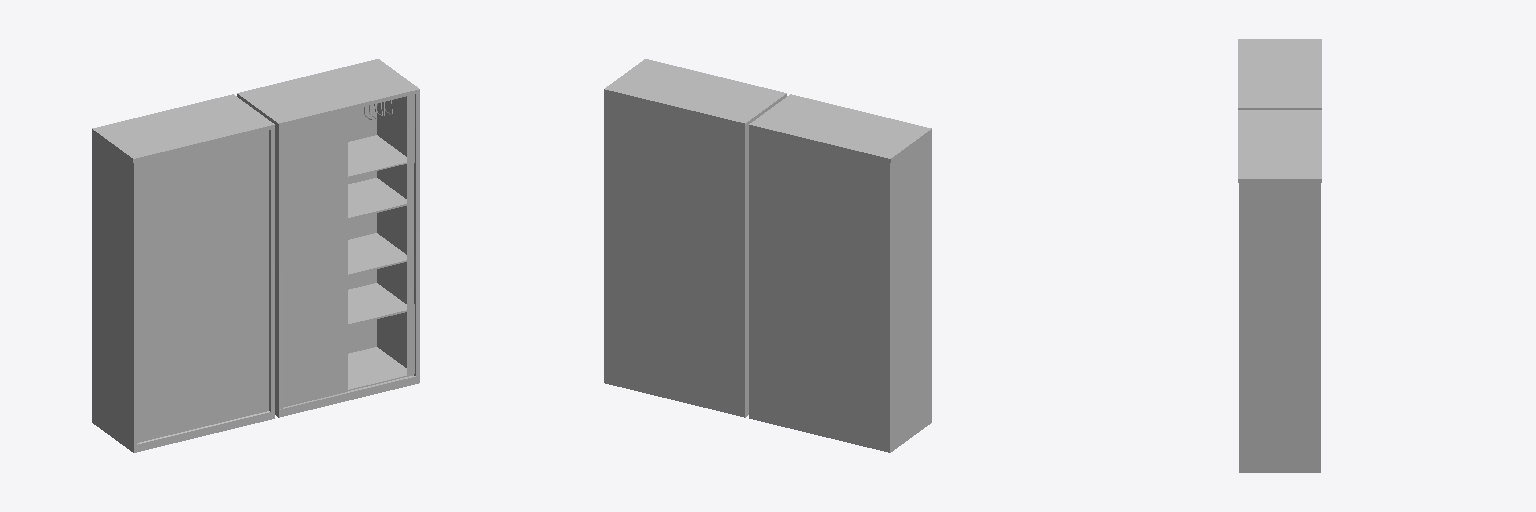
The model's file is S_ClstOfcA_0_001.obj.
The picture shows the model from 3 angles: view 1: azimuth 30°, elevation 25°; view 2: azimuth 150°, elevation 25°; view 3: azimuth 270°, elevation 25°; orthographic projection.
Visible parts, largest first — view 1: S_ClstOfcACounter002, S_ClstOfcACounter, S_ClstOfcADoor; view 2: S_ClstOfcACounter002, S_ClstOfcACounter; view 3: S_ClstOfcACounter, S_ClstOfcACounter002.
Part boxes in pixels (left/top/right/bottom): S_ClstOfcACounter002: left=92, top=94, right=274, bottom=452; S_ClstOfcACounter: left=237, top=59, right=419, bottom=417; S_ClstOfcADoor: left=283, top=111, right=347, bottom=407; S_ClstOfcACounter002: left=749, top=94, right=931, bottom=452; S_ClstOfcACounter: left=604, top=59, right=786, bottom=417; S_ClstOfcACounter: left=1238, top=110, right=1321, bottom=472; S_ClstOfcACounter002: left=1238, top=39, right=1321, bottom=109.
Bounding box in the file's own units: 72.19 × 70.8 × 18.14.